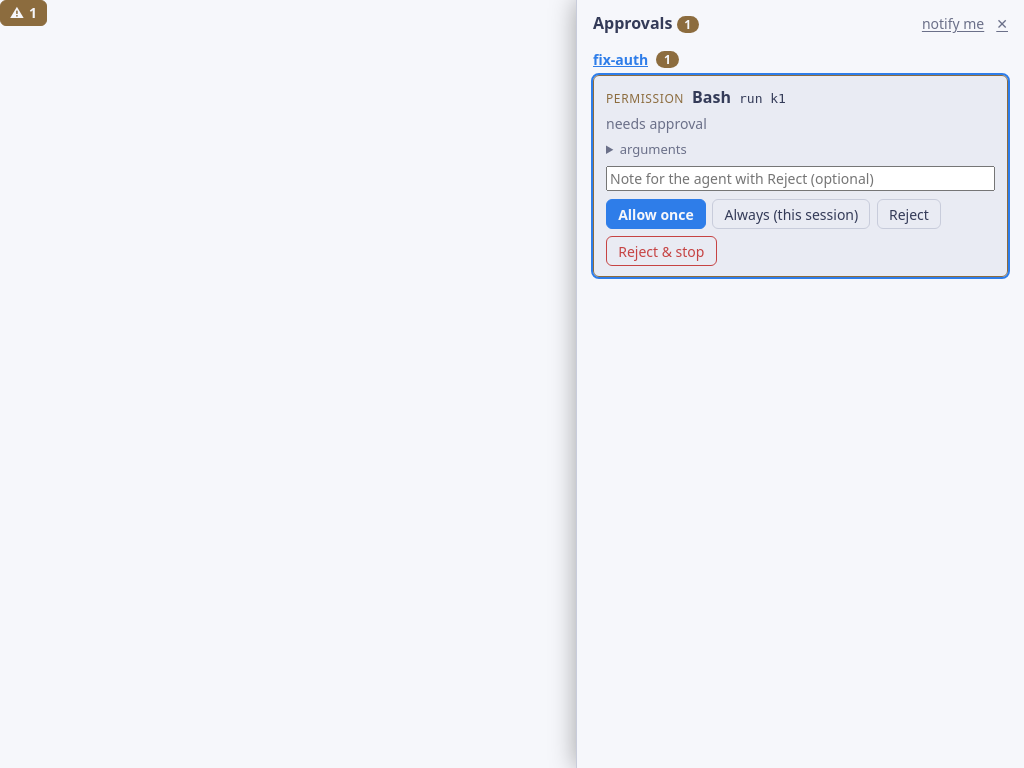
approvals drawer › a refused answer shows why and gives the card its buttons back
Click the button with test id "ask-once" at (656, 214), box [606,199,706,229]
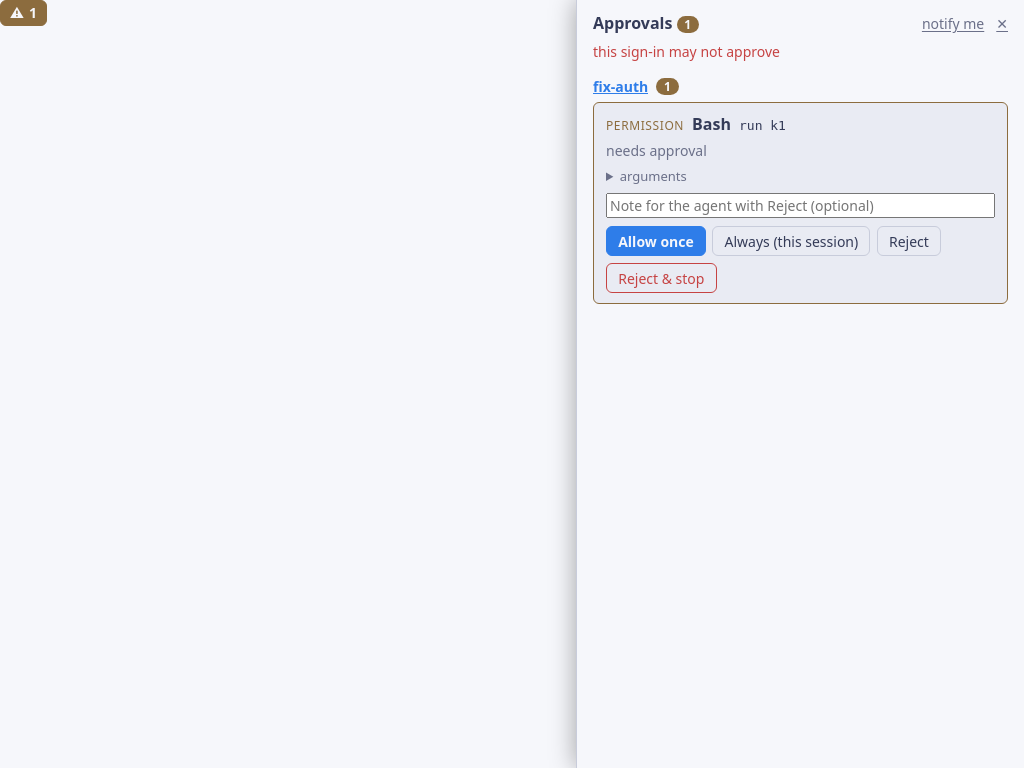
expect the button with test id "ask-once" is enabled: met, box [606,226,706,256]
expect the message "this sign-in may not approve" is shown: met, box [593,42,780,61]
